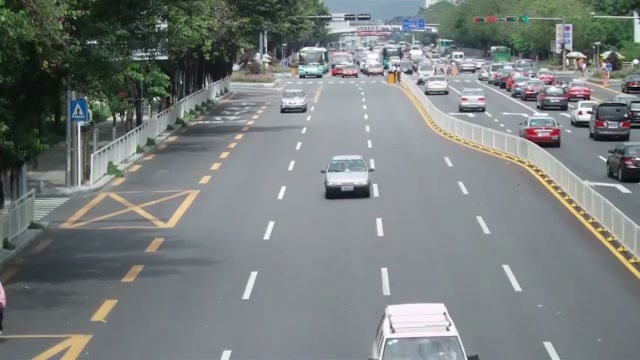car: (368, 302, 469, 359), (322, 154, 372, 199), (588, 102, 632, 141), (602, 143, 640, 182), (520, 115, 562, 148), (568, 100, 602, 126), (535, 86, 569, 110), (280, 88, 308, 113), (458, 88, 487, 112), (423, 75, 449, 95), (521, 80, 546, 100), (622, 75, 640, 94), (341, 65, 359, 78)
pedestrian: (0, 279, 7, 334)
truck: (369, 302, 469, 359), (297, 46, 330, 78)
